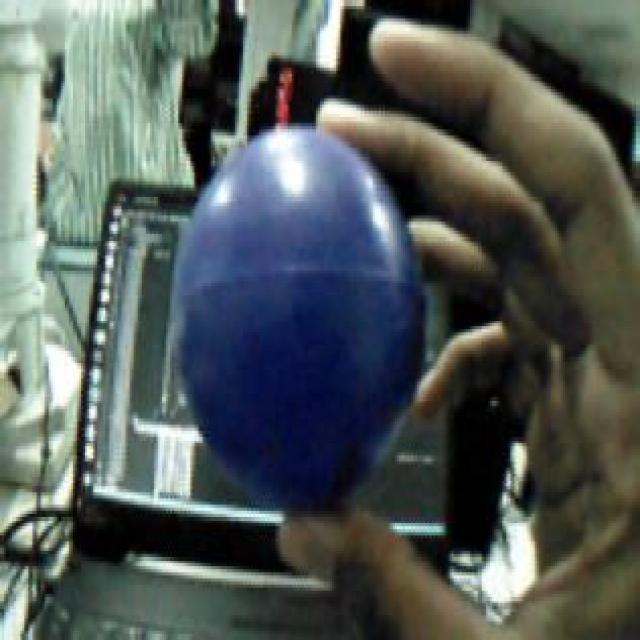BallPurple: (169, 123, 428, 510)
